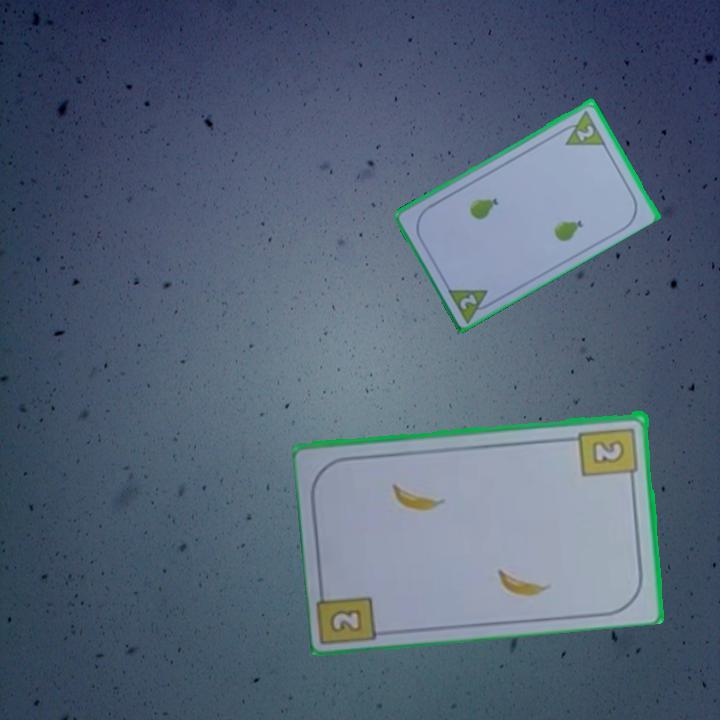2b: (576, 423, 641, 485), (326, 605, 366, 635)
2p: (443, 283, 498, 324), (556, 106, 608, 148)
